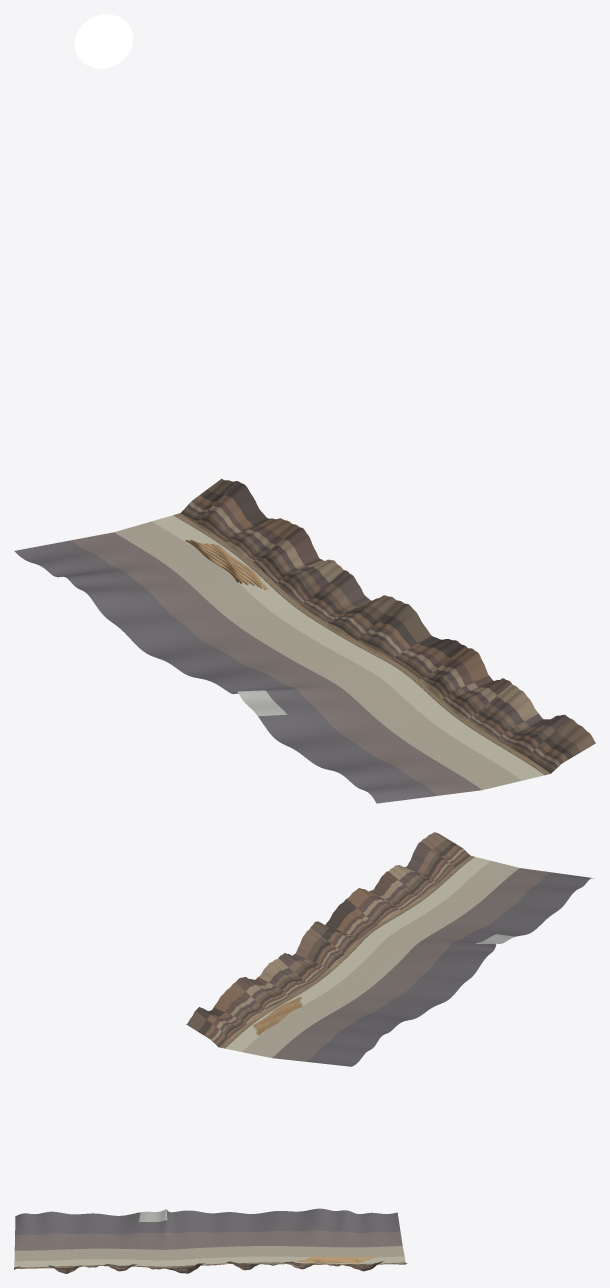
Rendered from deathvalley.glb.
The picture shows the model from 3 angles, top to bottom: view 1: azimuth 30°, elevation 25°; view 2: azimuth 150°, elevation 25°; view 3: azimuth 270°, elevation 25°; orthographic projection. The views are drawn at different scales.
Parts seen in each view (by area): view 1: Land_006, Land_002, Land_007, Land_003, Land_005, Land_001, Land_000, Land_009, Land_008, Land_004, Land_010, Sun; view 2: Land_005, Land_002, Land_006, Land_001, Land_007, Land_008, Land_009, Land_000, Land_003, Land_004, Land_010; view 3: Land_002, Land_006, Land_001, Land_007, Land_005, Land_003, Land_008, Land_009, Land_000, Land_004, Land_010.
Boxes of the visible parts, <box> form: Land_006: <box>121,568,371,662</box>; Land_002: <box>263,676,518,757</box>; Land_007: <box>86,547,341,628</box>; Land_003: <box>238,641,488,723</box>; Land_005: <box>168,595,412,683</box>; Land_001: <box>306,689,550,781</box>; Land_000: <box>350,714,595,803</box>; Land_009: <box>35,482,279,577</box>; Land_008: <box>63,518,313,592</box>; Land_004: <box>215,609,457,694</box>; Land_010: <box>14,478,239,563</box>; Sun: <box>74,14,133,68</box>; Land_005: <box>297,921,485,984</box>; Land_002: <box>370,868,554,935</box>; Land_006: <box>276,949,462,1007</box>; Land_001: <box>393,853,578,912</box>; Land_007: <box>250,959,431,1023</box>; Land_008: <box>220,977,398,1039</box>; Land_009: <box>196,997,378,1056</box>; Land_000: <box>413,832,593,888</box>; Land_003: <box>340,888,519,943</box>; Land_004: <box>317,904,496,957</box>; Land_010: <box>186,1010,361,1066</box>; Land_002: <box>85,1213,134,1271</box>; Land_006: <box>230,1211,278,1270</box>; Land_001: <box>42,1211,89,1273</box>; Land_007: <box>275,1208,322,1269</box>; Land_005: <box>186,1210,240,1268</box>; Land_003: <box>124,1210,165,1270</box>; Land_008: <box>310,1208,350,1266</box>; Land_009: <box>349,1211,387,1271</box>; Land_000: <box>14,1213,53,1269</box>; Land_004: <box>163,1209,204,1273</box>; Land_010: <box>378,1212,407,1264</box>.
Bounding box in the file's own units: 4756 × 5488 × 14920.
